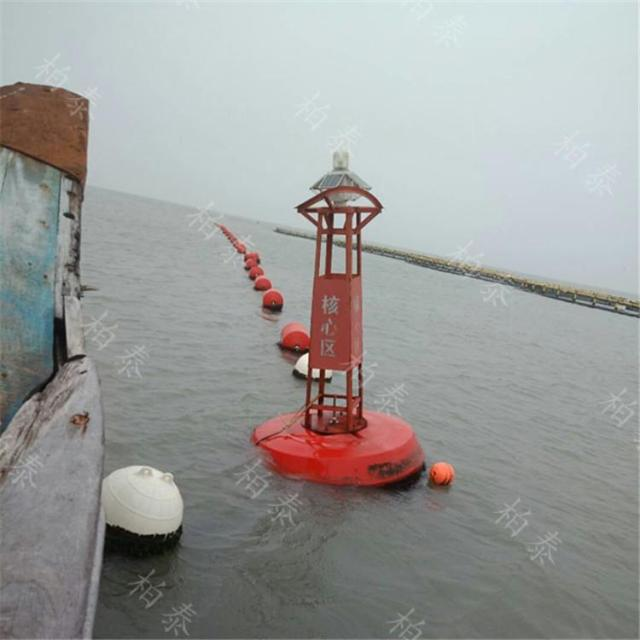buoy: (248, 135, 428, 488)
